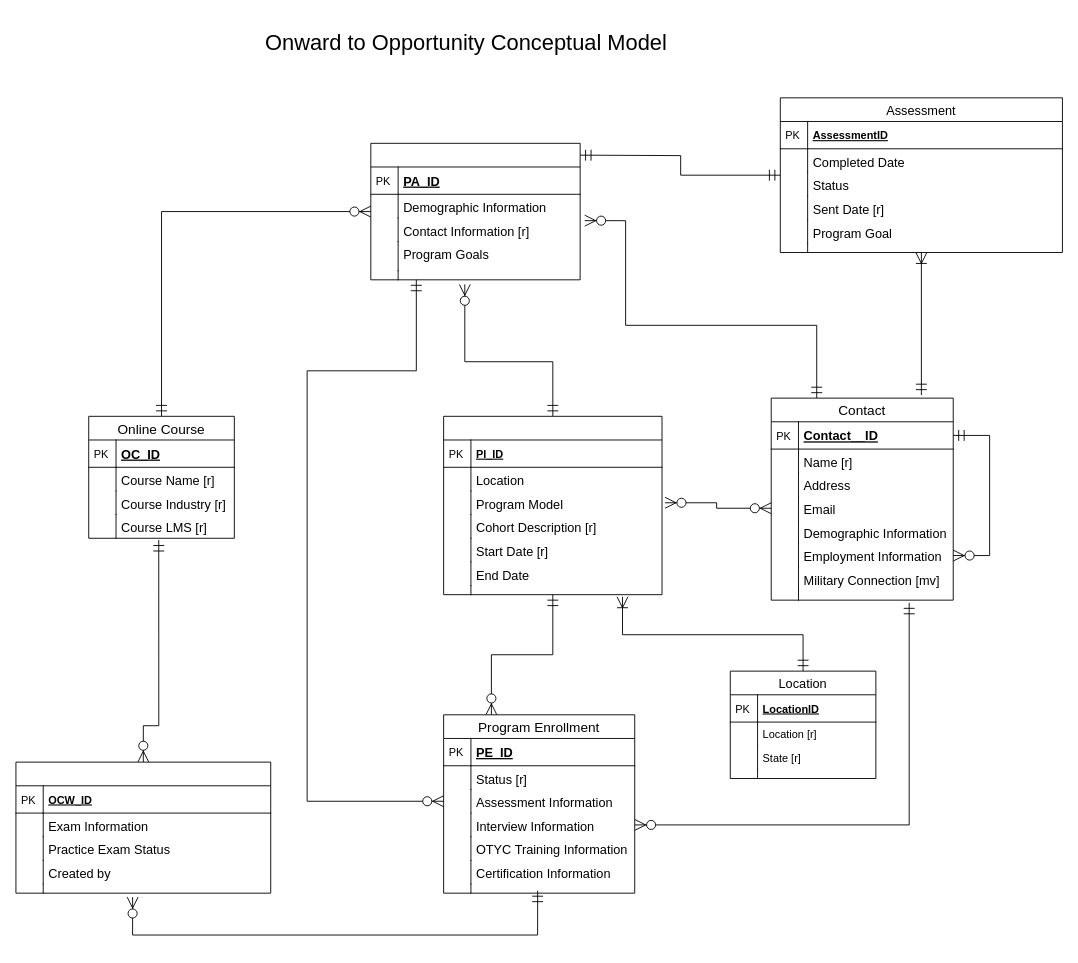
Some shapes in this 1078 by 963 pixel diagram are drawn without their labels. Each missing label, with the box of its shape:
Online Coursework: (15, 761, 271, 893)
Program Application: (370, 142, 580, 280)
Program Instance: (443, 415, 662, 595)
